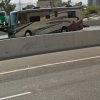Bus: (8, 5, 89, 37)
